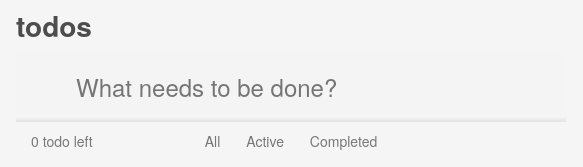
Test: Input form › Form submission › show an error on a failed submission
The image size is (583, 167).
Type "test" into the field with class "new-todo" at point(291, 87), box [16,54,566,120]
Then press Enter
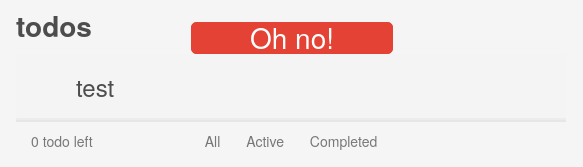
expect the text "Oh no!" is shown: met, box [191,22,393,54]
